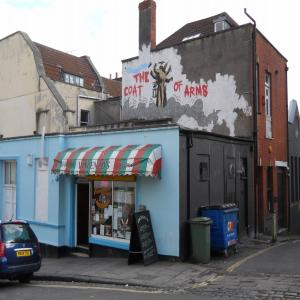Vehicle-registration-plate: (18, 250, 32, 258)
